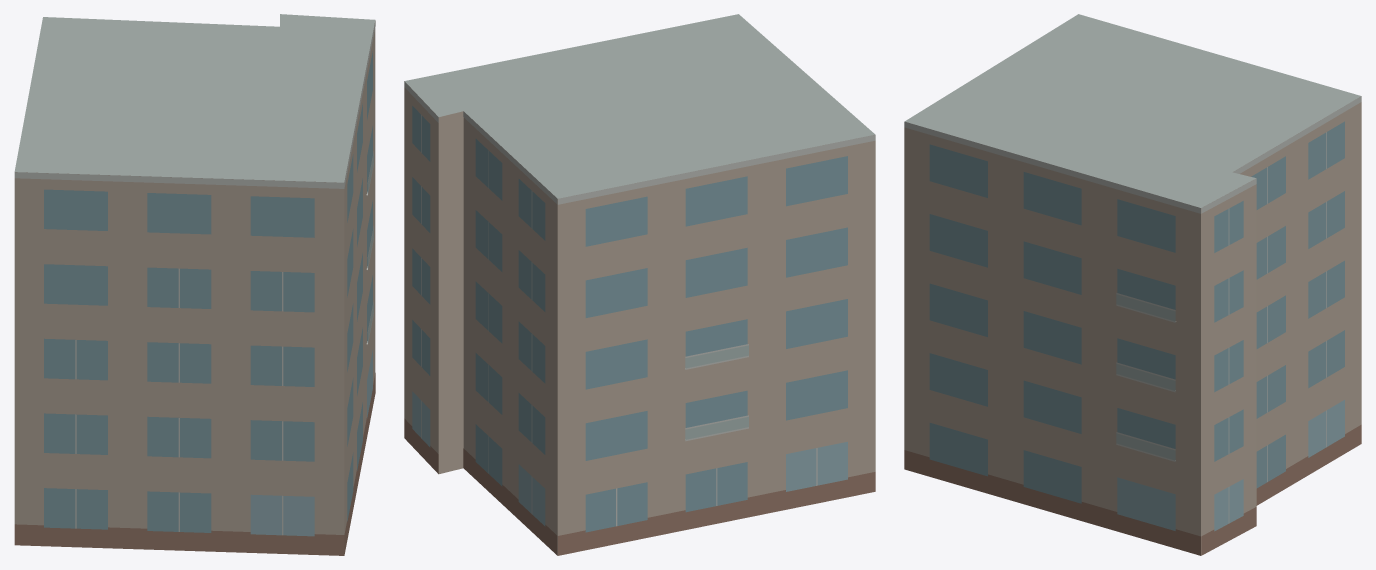
The model's file is survey-upis-32842975.glb.
3 renders of one model, left to right at view 1: azimuth 30°, elevation 25°; view 2: azimuth 150°, elevation 25°; view 3: azimuth 270°, elevation 25°, orthographic. The views are drawn at different scales.
Parts seen in each view (by area): view 1: survey-upis-32842975.tmp; view 2: survey-upis-32842975.tmp; view 3: survey-upis-32842975.tmp.
Boxes of the visible parts, left/top/right/bottom form: survey-upis-32842975.tmp: left=14, top=14, right=375, bottom=555; survey-upis-32842975.tmp: left=404, top=14, right=875, bottom=555; survey-upis-32842975.tmp: left=904, top=14, right=1361, bottom=555.
Size of the model in its own units: 17.36 by 14.5 by 17.28.
